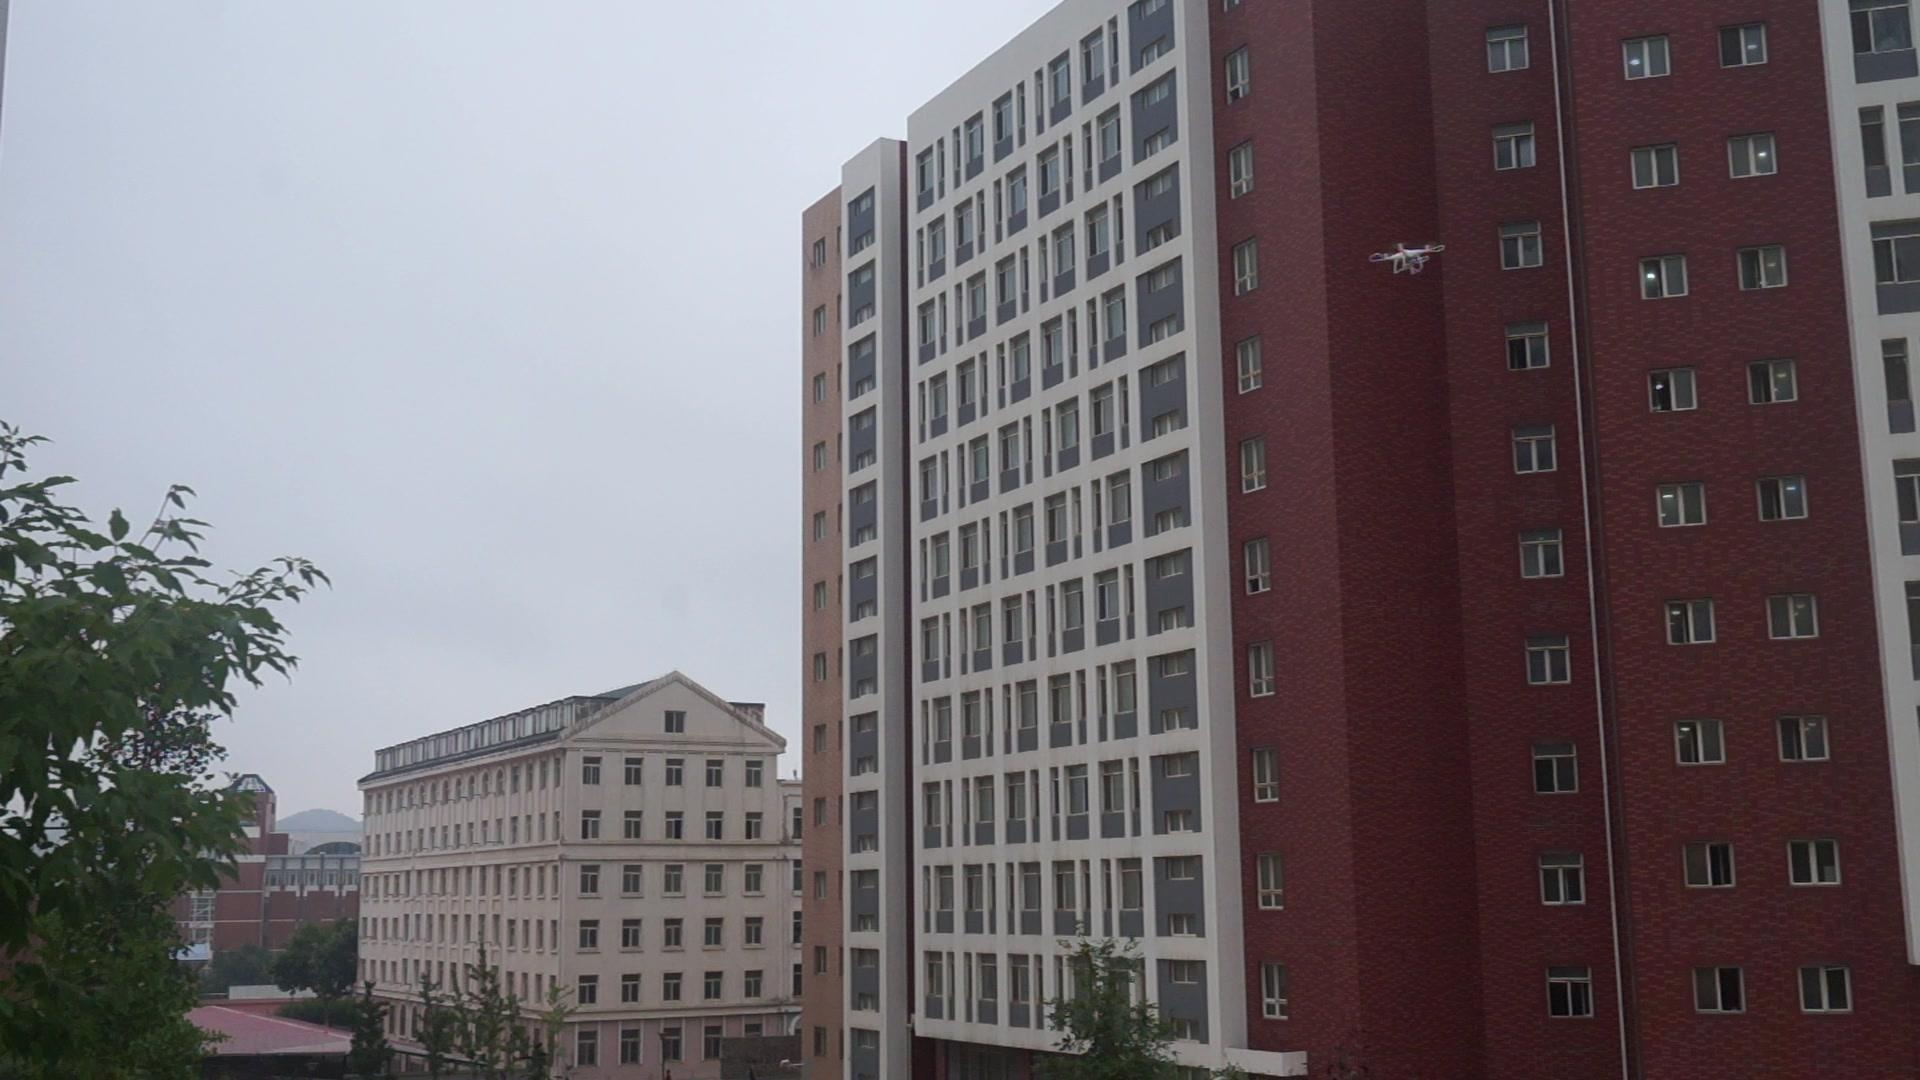UAV: (1369, 243, 1447, 276)
